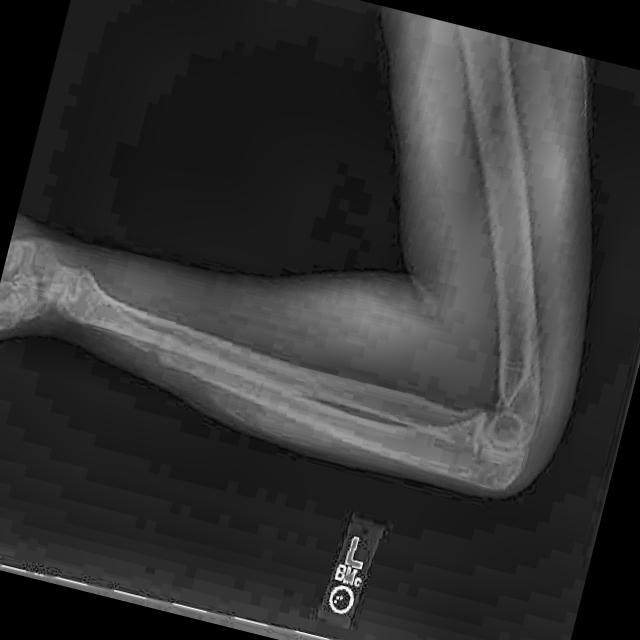forearm fracture: (121, 327, 184, 386)
